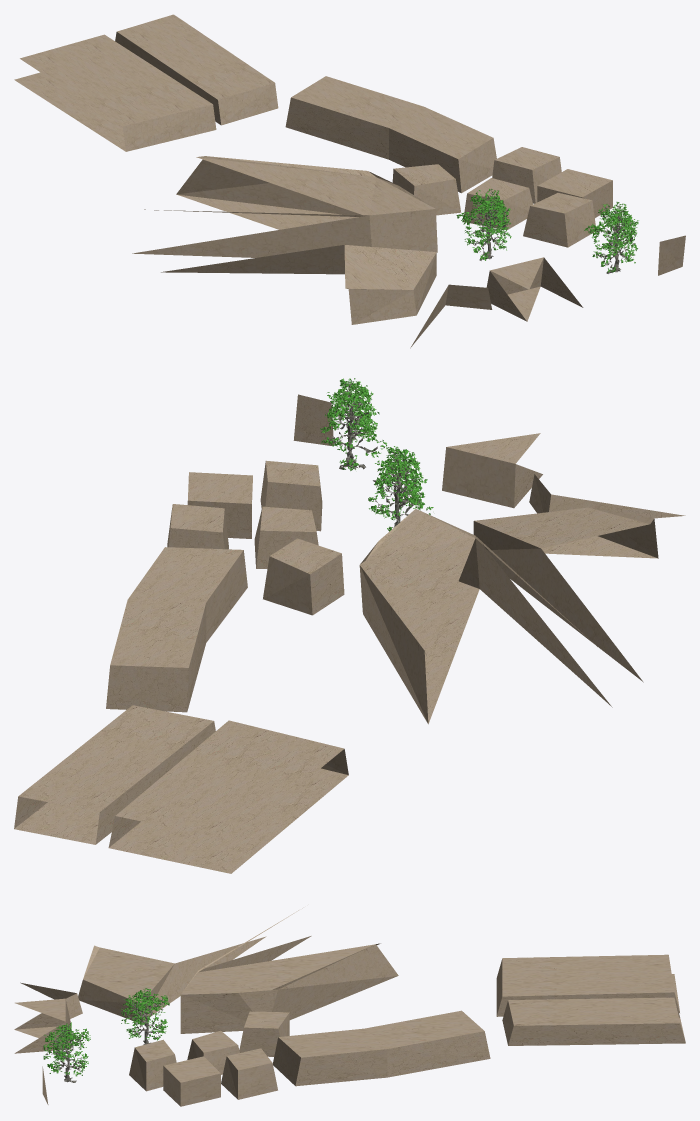
File: tile_1_-2.gltf
3 views of the same model, one above another, from view 1: azimuth 30°, elevation 25°; view 2: azimuth 150°, elevation 25°; view 3: azimuth 270°, elevation 25° (orthographic). The views are drawn at different scales.
Parts seen in each view (by area): view 1: Plane.011@tile_1_-2, Bodhi Tree_Bodhi_front_2_Mat_0.044@tile_1_-2; view 2: Plane.011@tile_1_-2, Bodhi Tree_Bodhi_front_2_Mat_0.044@tile_1_-2; view 3: Plane.011@tile_1_-2, Bodhi Tree_Bodhi_front_2_Mat_0.044@tile_1_-2.
Part boxes in pixels (left/top/right/bottom): Plane.011@tile_1_-2: left=14, top=14, right=685, bottom=348; Bodhi Tree_Bodhi_front_2_Mat_0.044@tile_1_-2: left=456, top=189, right=638, bottom=273; Plane.011@tile_1_-2: left=14, top=394, right=685, bottom=873; Bodhi Tree_Bodhi_front_2_Mat_0.044@tile_1_-2: left=320, top=378, right=433, bottom=531; Plane.011@tile_1_-2: left=14, top=908, right=685, bottom=1106; Bodhi Tree_Bodhi_front_2_Mat_0.044@tile_1_-2: left=43, top=988, right=169, bottom=1082.
Bounding box in the file's own units: 64.28 × 10.61 × 105.
Materials: 3 (2 with a texture image).
